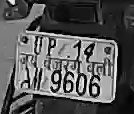0: (75, 72, 86, 97)
1: (73, 39, 82, 58)
4: (85, 40, 96, 64)
6: (89, 75, 101, 100), (63, 69, 74, 94)
9: (51, 69, 61, 94)
A: (18, 66, 31, 91)
M: (32, 68, 43, 93)
P: (46, 36, 56, 57)
U: (33, 35, 43, 56)
